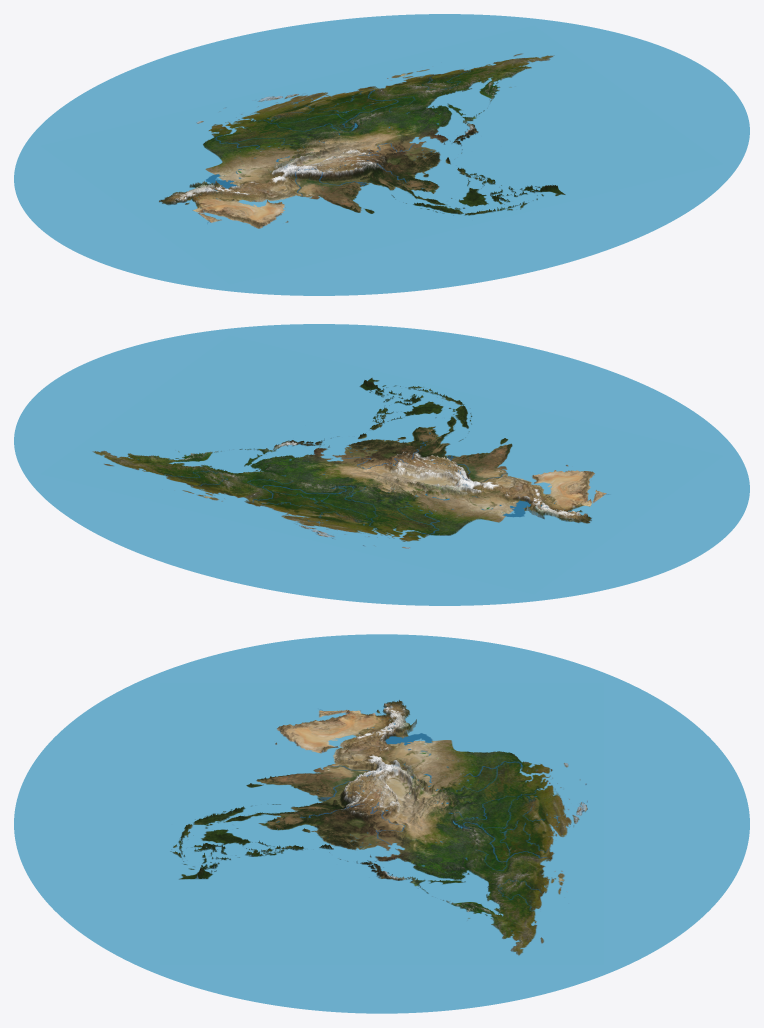
File: asia-terrain.glb
The picture shows the model from 3 angles, top to bottom: view 1: azimuth 30°, elevation 25°; view 2: azimuth 150°, elevation 25°; view 3: azimuth 270°, elevation 25°; orthographic projection. The views are drawn at different scales.
Visible parts, largest first — view 1: Superfície geográfica; view 2: Superfície geográfica; view 3: Superfície geográfica.
Part boxes in pixels (<box>): Superfície geográfica: <box>14,14,749,295</box>; Superfície geográfica: <box>14,324,749,605</box>; Superfície geográfica: <box>14,634,749,1013</box>.
Size of the model in its own units: 2.29 by 0.0357 by 1.88.
Materials: 2 (1 with a texture image).
